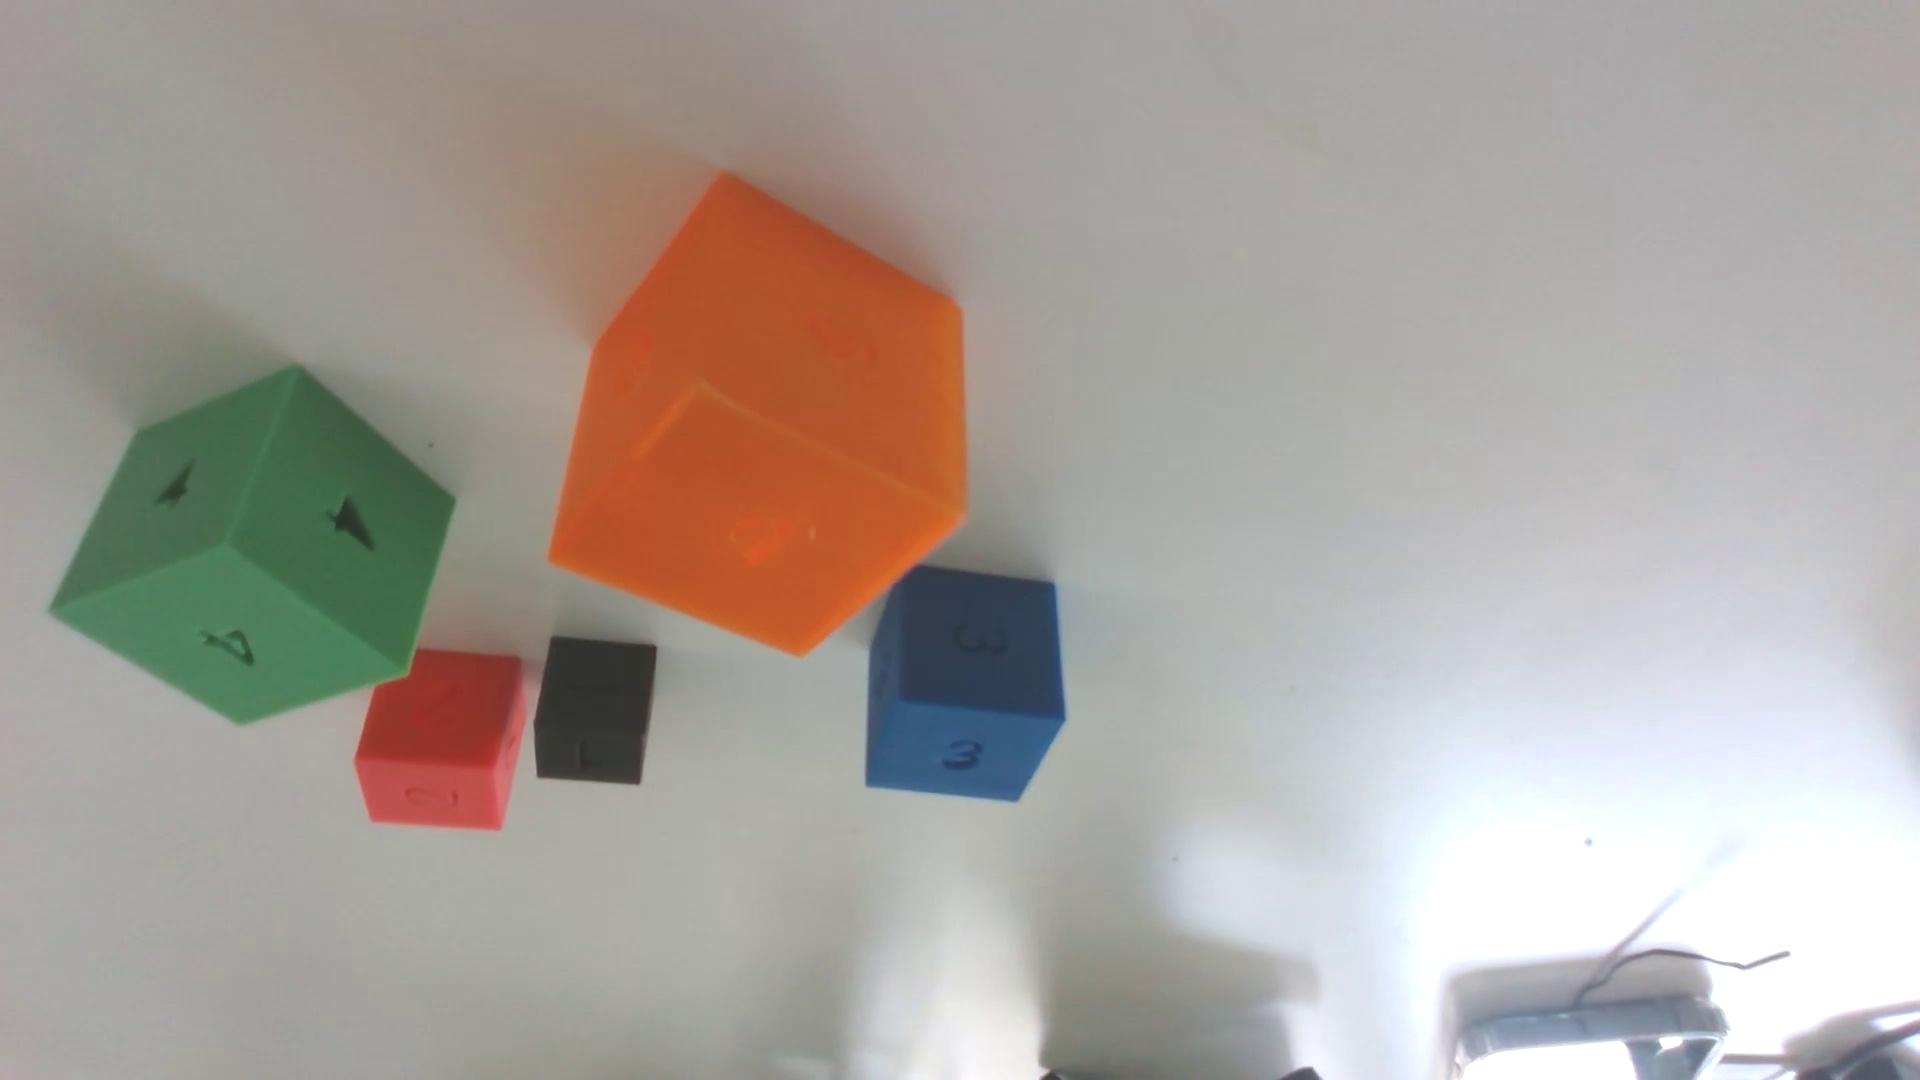black: (533, 636, 657, 785)
blue: (866, 564, 1065, 800)
green: (51, 367, 455, 723)
orange: (549, 175, 967, 655)
red: (355, 647, 527, 829)
